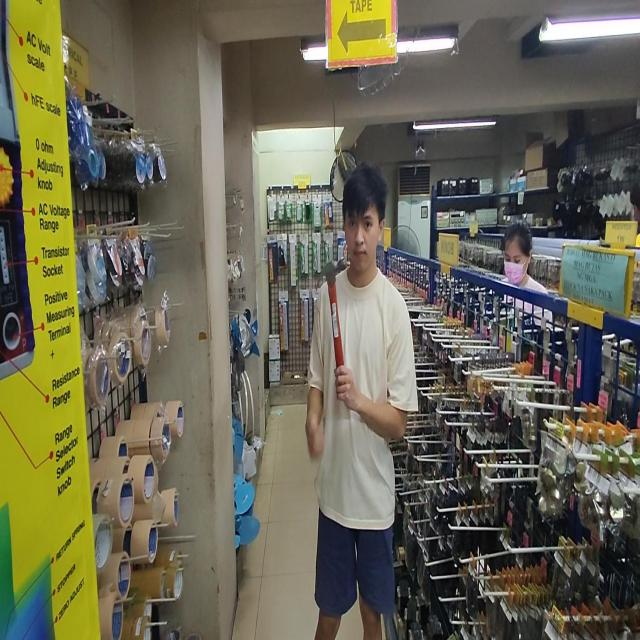hammer: (316, 258, 346, 368)
